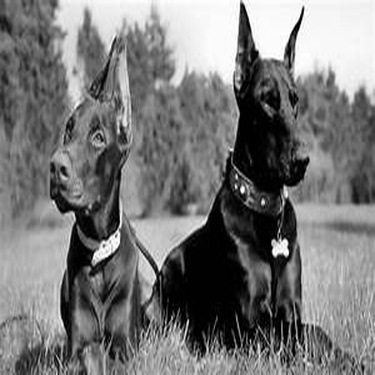dog: (142, 1, 369, 372), (6, 20, 180, 373)
